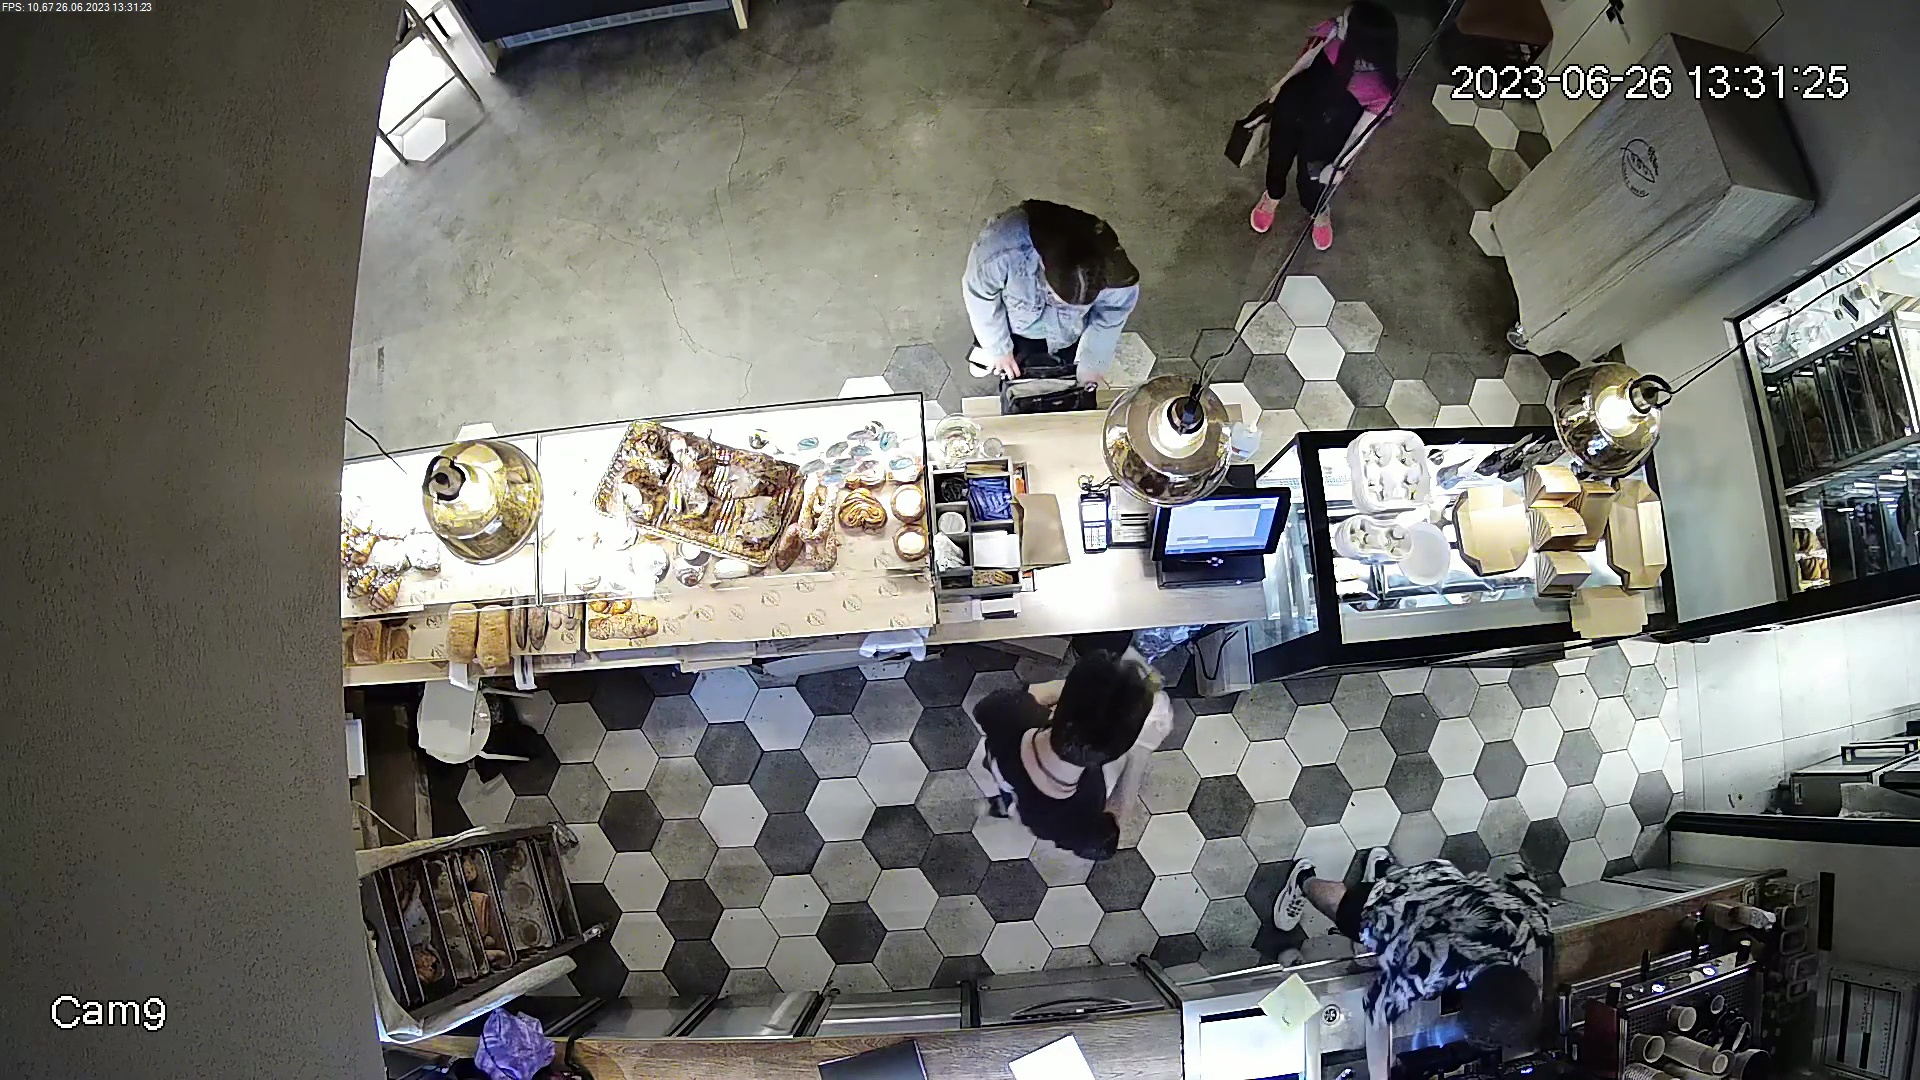pack: (1010, 490, 1071, 573)
person: (961, 195, 1142, 408)
